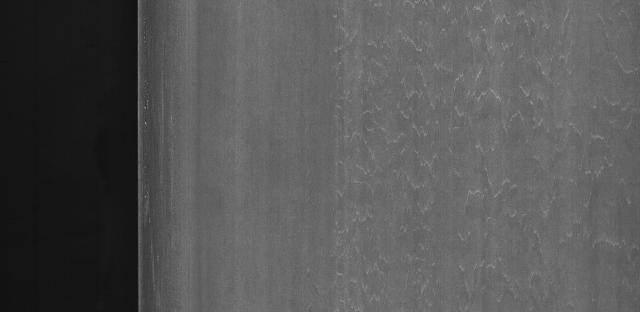silk_spot: (326, 11, 630, 308)
